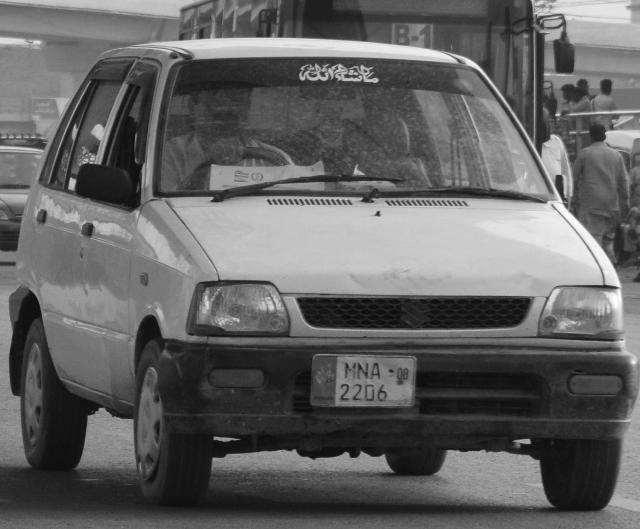Number: (340, 361, 396, 405)
